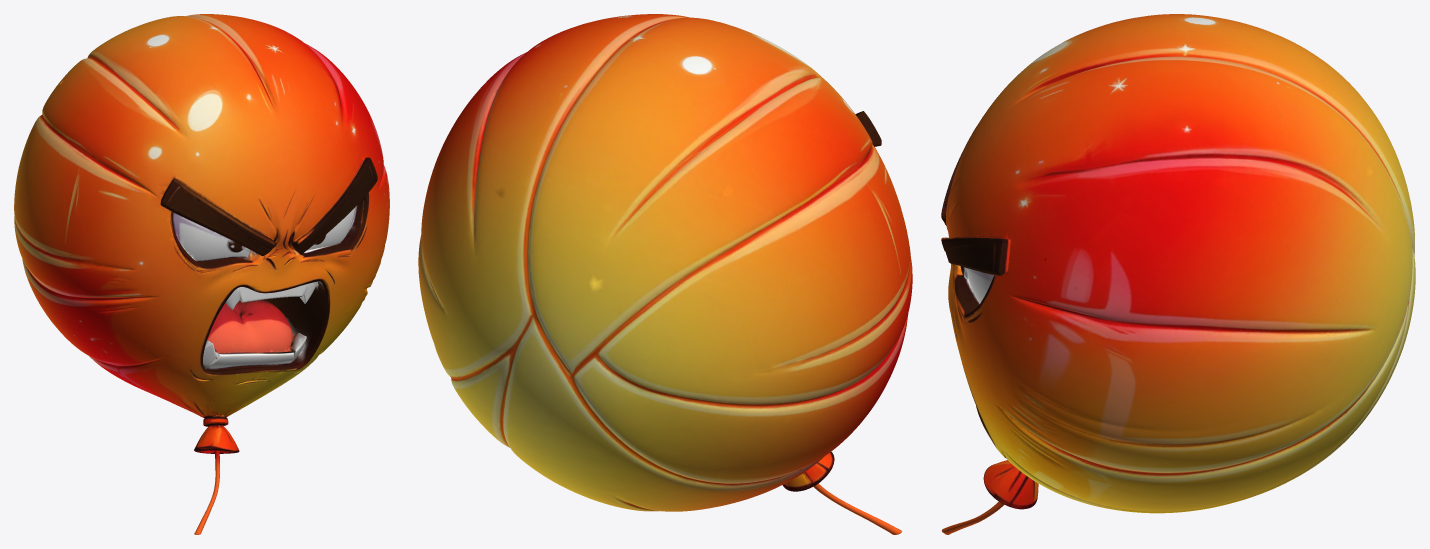
Rendered from 基础怪动画版.glb.
3 renders of one model, left to right at view 1: azimuth 30°, elevation 25°; view 2: azimuth 150°, elevation 25°; view 3: azimuth 270°, elevation 25°, orthographic. The views are drawn at different scales.
Visible parts, largest first — view 1: node_0; view 2: node_0; view 3: node_0.
Boxes of the visible parts, x1,y1,x2,y2 form: node_0: (14, 14, 389, 534); node_0: (418, 14, 912, 534); node_0: (941, 14, 1415, 534).
Size of the model in its own units: 0.7377 by 0.8973 by 0.6939.
1 material, 1 textured.
